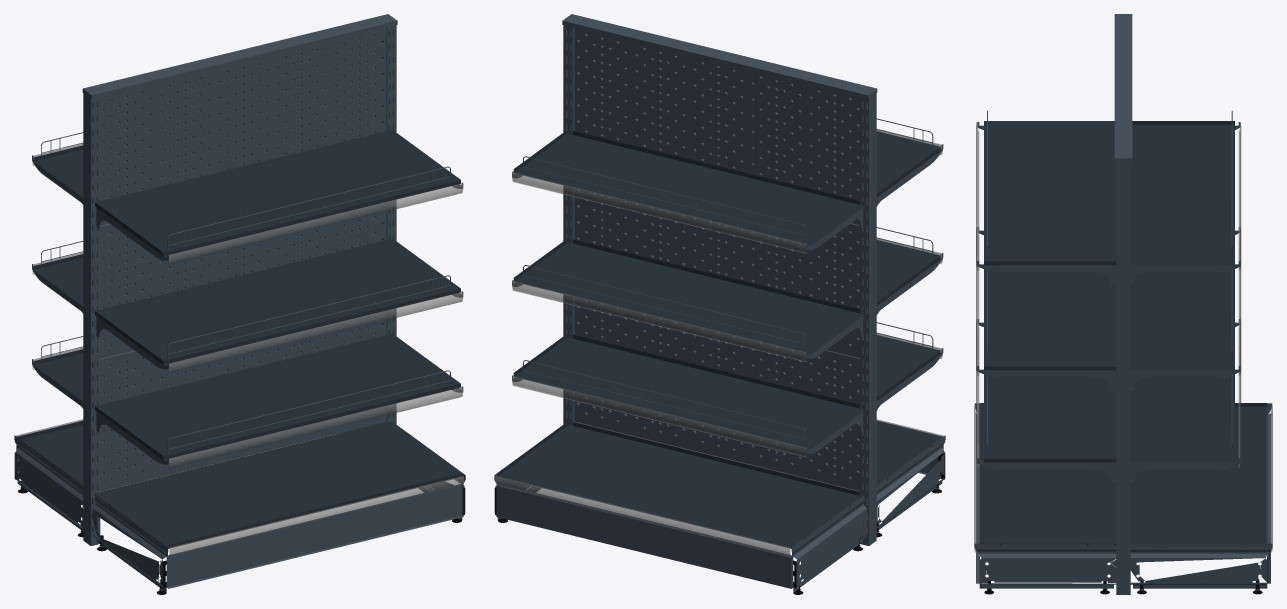
The model's file is GONDOLA-53-48-16.glb.
3 views of the same model, side by side, from view 1: azimuth 30°, elevation 25°; view 2: azimuth 150°, elevation 25°; view 3: azimuth 270°, elevation 25° (orthographic). The views are drawn at different scales.
Bounding box in the file's own units: 0.9906 × 1.4 × 0.8667.
